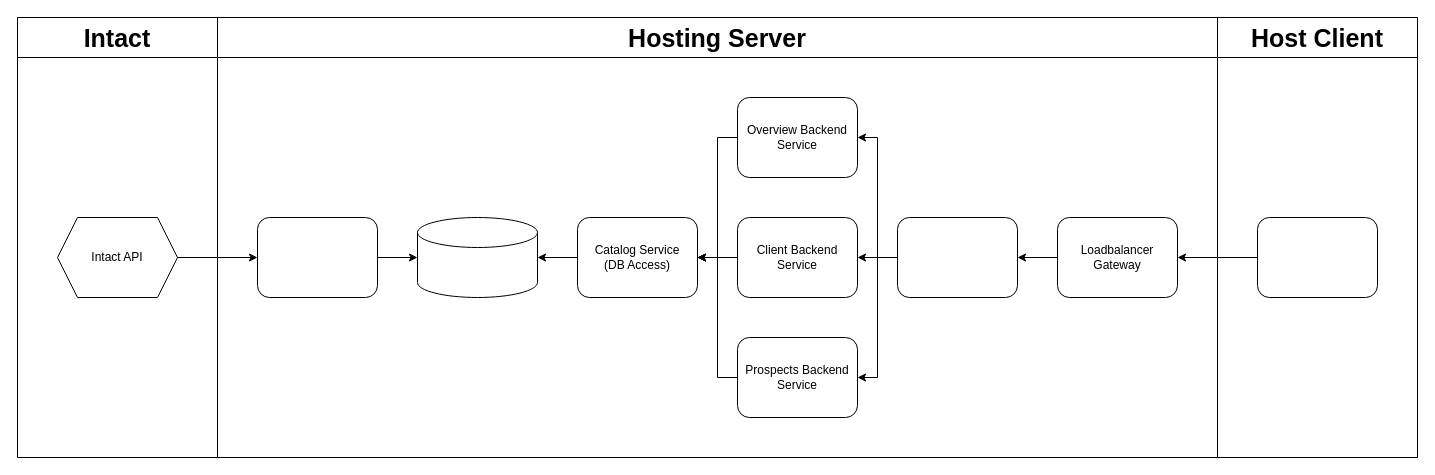
Some shapes in this 1435 by 475 pixel diagram are drawn without their labels. Each missing label, with the centre of its shape:
API to DB Service: the point at 317,257
End User Client: the point at 1317,257
Front End Service: the point at 957,257
PostgreSQL: the point at 477,257
